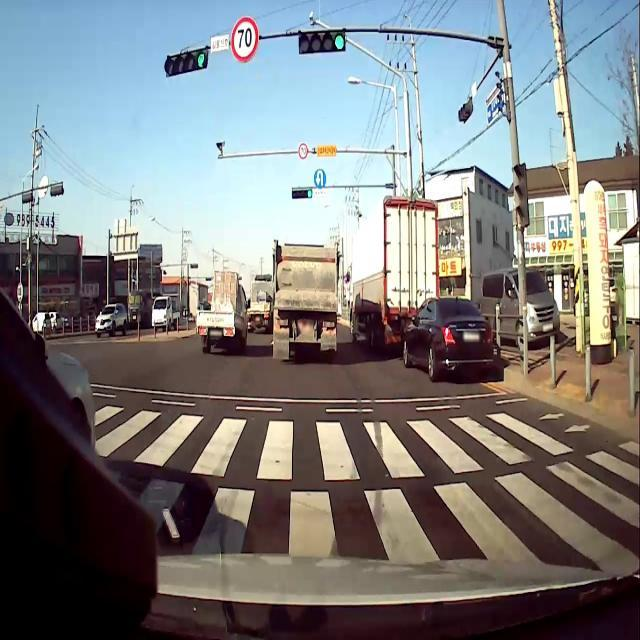crosswalk: (0, 381, 640, 571)
